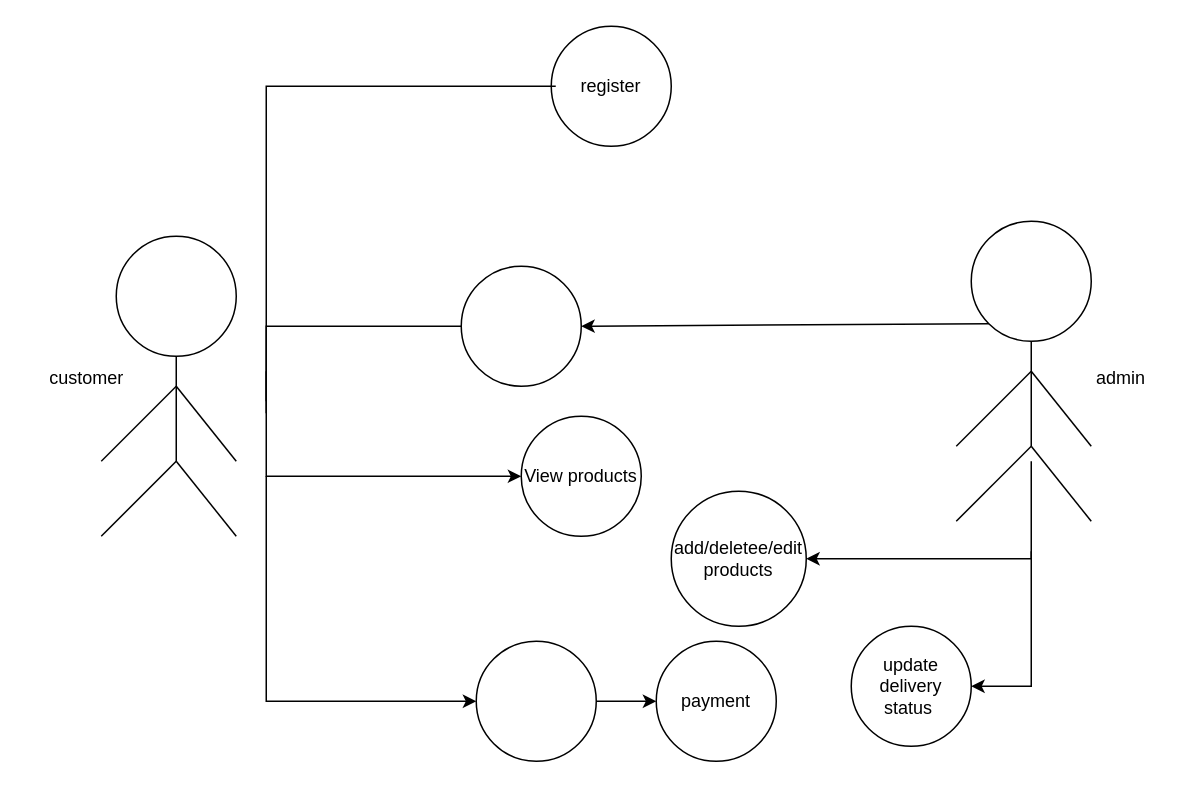
Image size: 1191x788. Some labels were removed from this diagram. The box of each missing label's shape, as (x1, y1, x2, y2) in pixels:
add to cart: (475, 640, 596, 761)
login: (460, 265, 581, 386)
